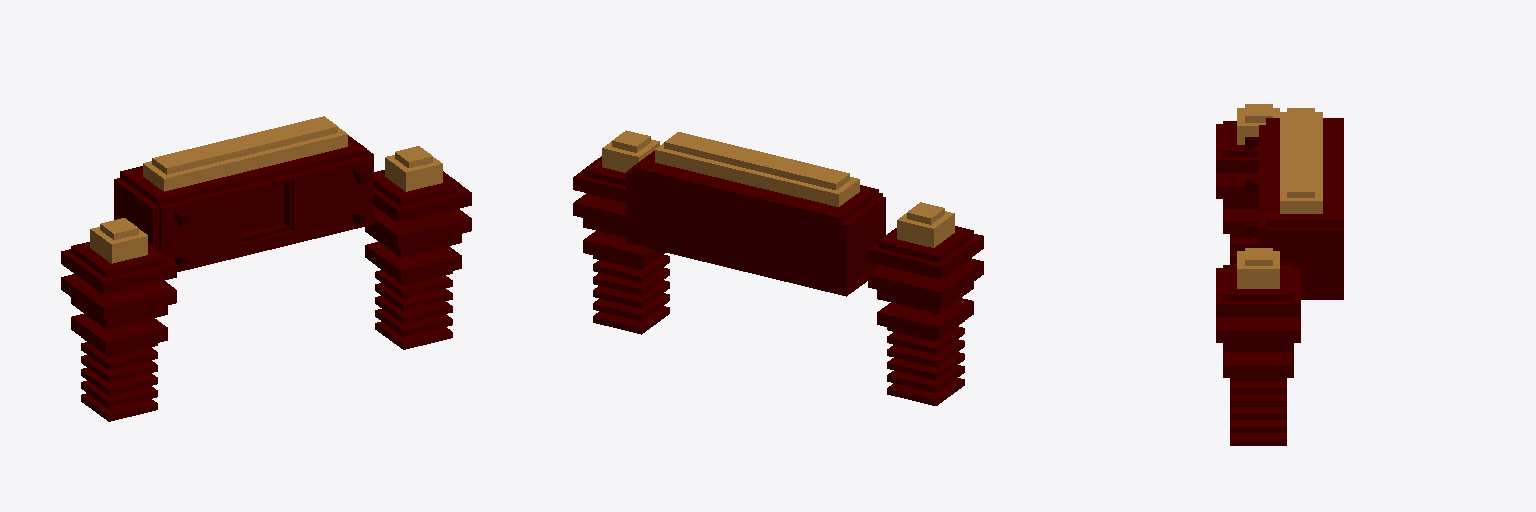
3 renders of one model, left to right at view 1: azimuth 30°, elevation 25°; view 2: azimuth 150°, elevation 25°; view 3: azimuth 270°, elevation 25°, orthographic.
Parts seen in each view (by area): view 1: object 1; view 2: object 1; view 3: object 1.
Boxes of the visible parts, <box> form: object 1: <box>61,116,471,421</box>; object 1: <box>573,130,983,405</box>; object 1: <box>1216,104,1343,445</box>.
Size of the model in its own units: 12 by 6.6 by 3.6.
1 materials, 1 textured.